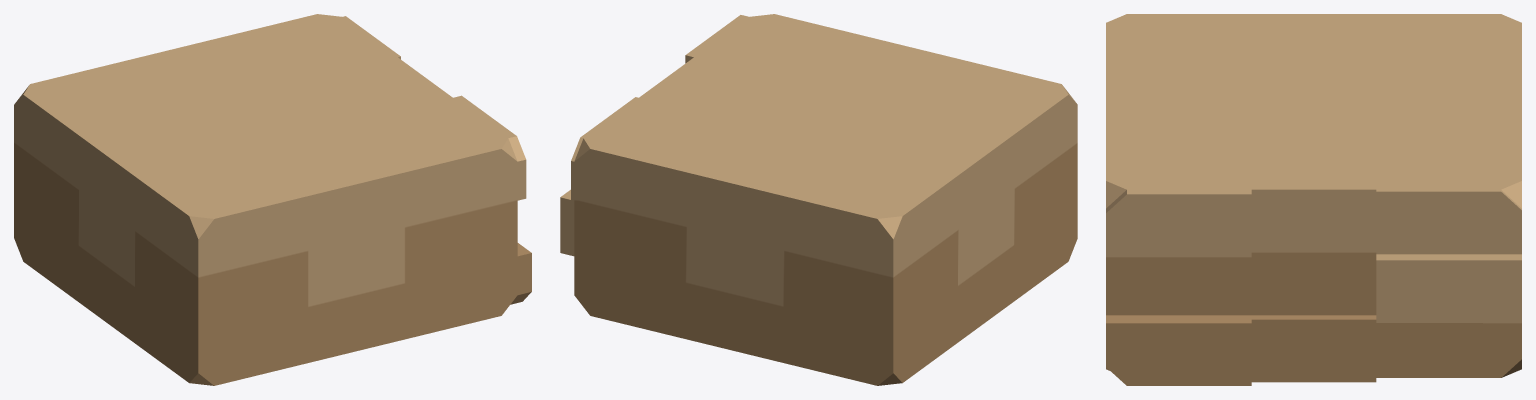
The model's file is Platform_Temple_03.fbx.
The picture shows the model from 3 angles, left to right: view 1: azimuth 30°, elevation 25°; view 2: azimuth 150°, elevation 25°; view 3: azimuth 270°, elevation 25°; orthographic projection. The views are drawn at different scales.
Visible parts, largest first — view 1: Temple_03; view 2: Temple_03; view 3: Temple_03.
Boxes of the visible parts, x1=… form: Temple_03: x1=14, y1=14, x2=531, y2=385; Temple_03: x1=560, y1=14, x2=1077, y2=385; Temple_03: x1=1106, y1=14, x2=1521, y2=385.
Size of the model in its own units: 82.26 by 39.37 by 78.74.
Materials: 1 (1 with a texture image).
